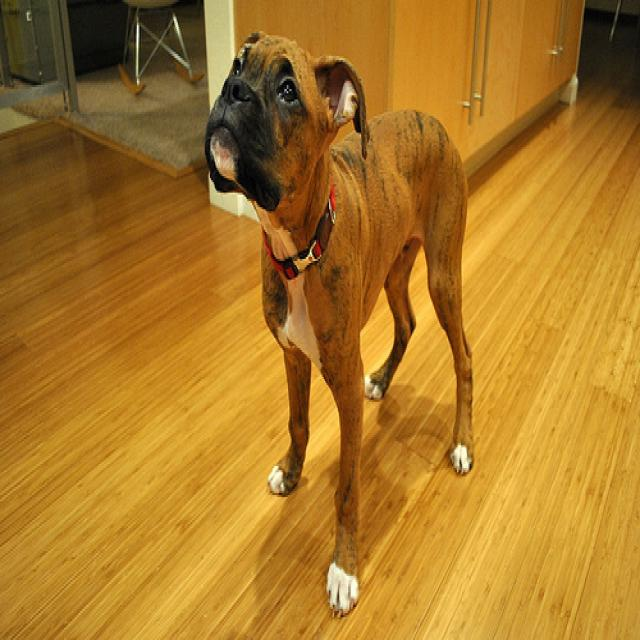dog-boxer: (196, 19, 483, 628)
